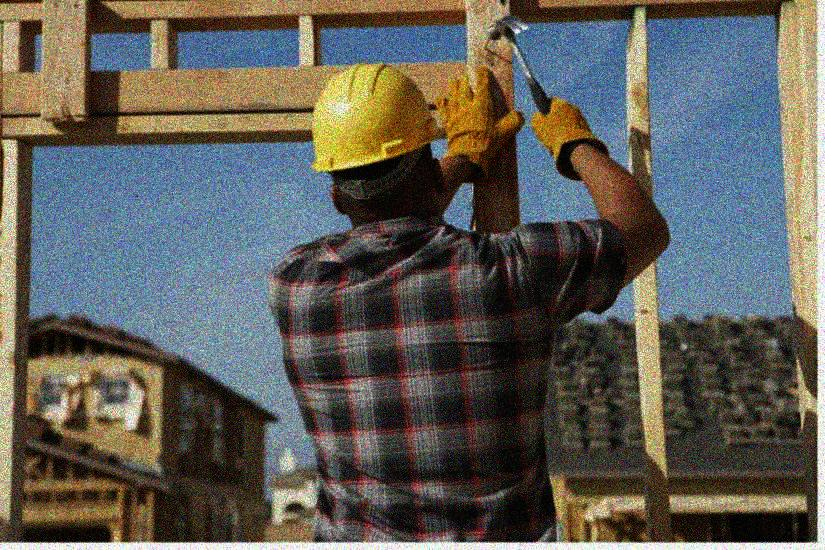helmet: (303, 63, 445, 229)
